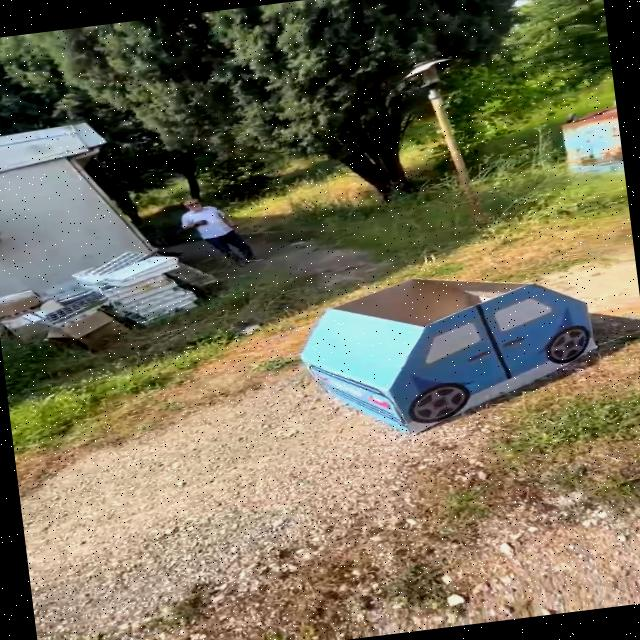blue_car: (272, 235, 636, 467)
